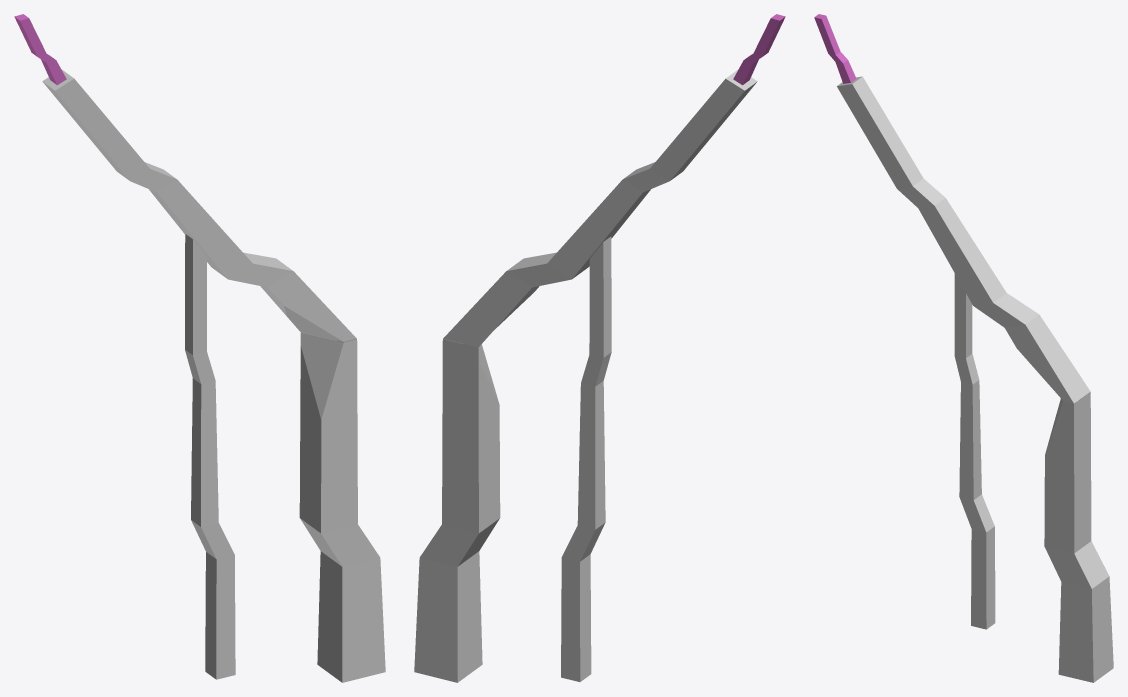
Rendered from pillar4_low.fbx.
3 views of the same model, side by side, from view 1: azimuth 30°, elevation 25°; view 2: azimuth 150°, elevation 25°; view 3: azimuth 330°, elevation 25° (orthographic). The views are drawn at different scales.
Visible parts, largest first — view 1: pillar4_low; view 2: pillar4_low; view 3: pillar4_low.
Boxes of the visible parts, x1,y1,x2,y2 form: pillar4_low: (14, 14, 385, 682); pillar4_low: (414, 14, 785, 682); pillar4_low: (814, 14, 1113, 682).
Bounding box in the file's own units: 4865 × 9553 × 593.
